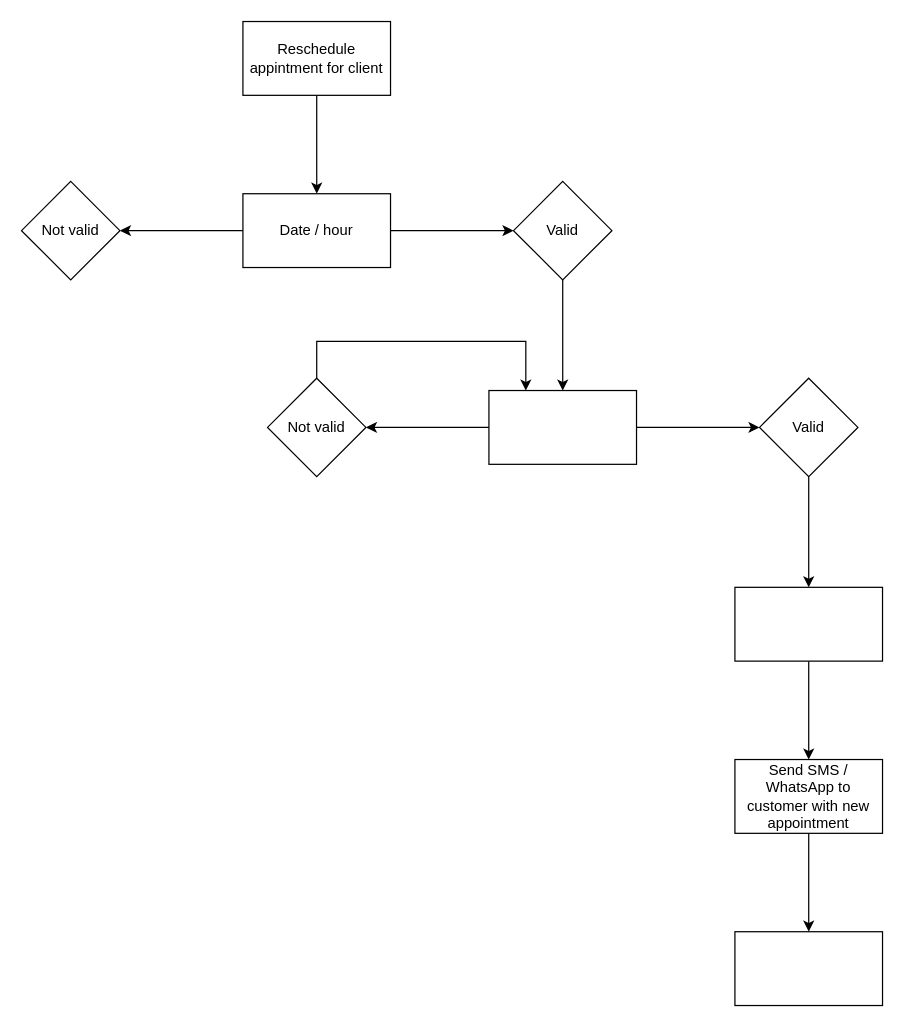
Image size: 904x1027. Some labels were removed from this diagram. Here are the shapes that lost their labels. From the top down, the centre of each, then its label:
pixel 562 426: Schedule new appointment
pixel 808 623: Cancel the previous appointment
pixel 808 968: Update barber calendar with the new appointment
